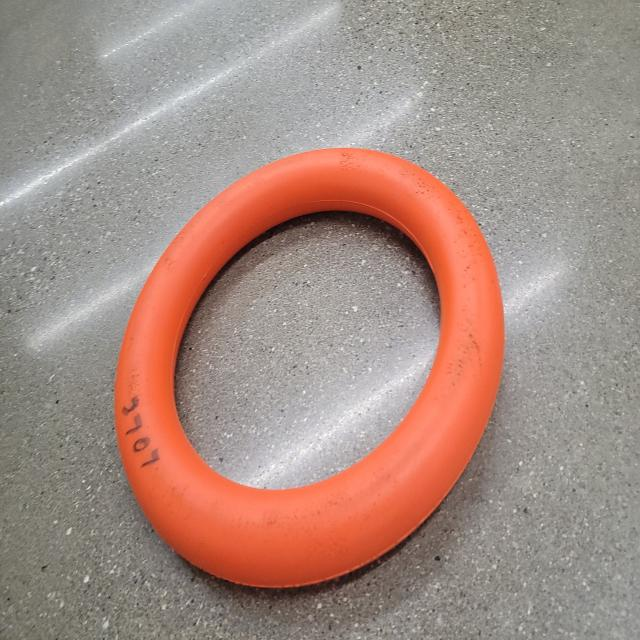note: (96, 132, 529, 602)
